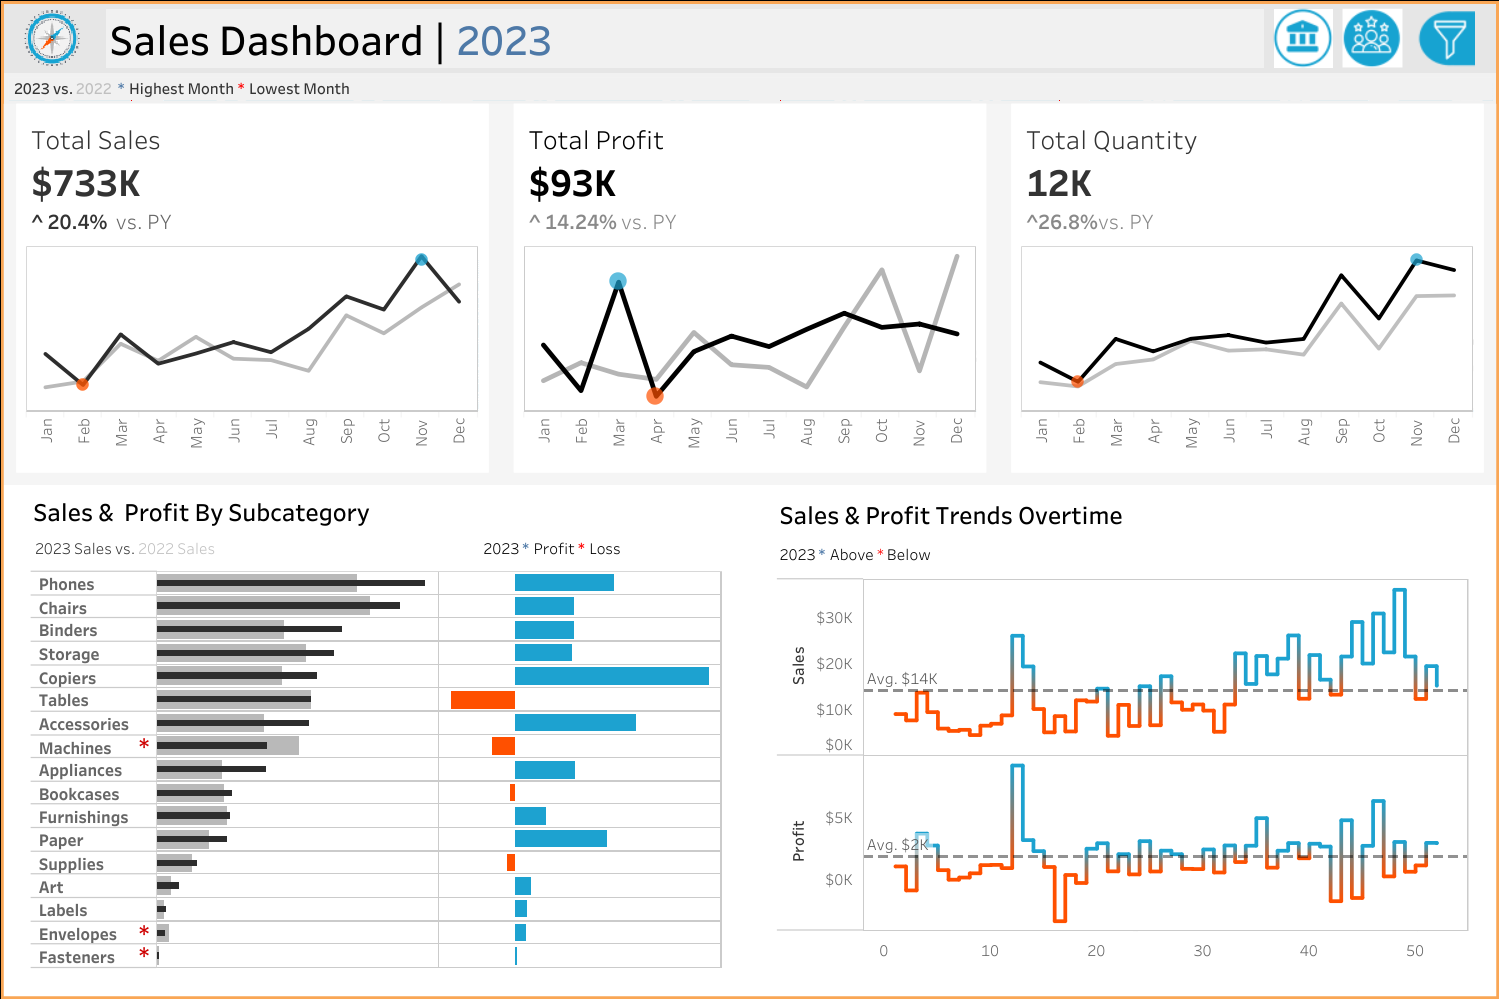

The page's visual inventory and layout, read from the dashboard file:
{"tool":"tableau","page":{"name":"Sales Dashboard","canvas":[1200,800],"ordinal":0},"visuals":[{"type":"image","param":"Image/Icon - Logo.png","box":[3,3,78,55]},{"type":"text","box":[81,3,934,55]},{"type":"dashboard-object","box":[1015,3,55,55]},{"type":"dashboard-object","box":[1070,3,56,55]},{"type":"dashboard-object","box":[1129,8,57,46]},{"type":"text","box":[987,10,197,40]},{"type":"parameter","param":"[Parameters].[Parameter 1]","box":[987,50,197,68]},{"type":"worksheet","title":"Legend KPI","mark":"Automatic","box":[3,58,1194,25]},{"type":"worksheet","title":"KPI Sales","mark":"Automatic","rows":["Calculation_2087699942925234181"],"cols":["Order Date"],"box":[3,83,398,305]},{"type":"worksheet","title":"KPI Profit","mark":"Automatic","rows":["Calculation_2087699943391412238"],"cols":["Order Date"],"box":[401,83,398,305]},{"type":"worksheet","title":"KPI Quantity","mark":"Line","rows":["Calculation_2087699943422980126"],"cols":["Order Date"],"box":[799,83,398,305]},{"type":"text","box":[987,118,197,33]},{"type":"filter","title":"KPI Sales","param":"[federated.0c2angh19n2s9v17hfpwo1cahdmh].[none:Category:nk]","box":[987,151,197,61]},{"type":"filter","title":"KPI Sales","param":"[federated.0c2angh19n2s9v17hfpwo1cahdmh].[none:Sub-Category:nk]","box":[987,212,197,61]},{"type":"blank","box":[987,273,197,31]},{"type":"text","box":[987,304,197,33]},{"type":"filter","title":"KPI Sales","param":"[federated.0c2angh19n2s9v17hfpwo1cahdmh].[none:Region:nk]","box":[987,337,197,61]},{"type":"text","box":[20,395,563,28.5]},{"type":"text","box":[617,395,563,32.3]},{"type":"filter","title":"KPI Sales","param":"[federated.0c2angh19n2s9v17hfpwo1cahdmh].[none:State:nk]","box":[987,398,197,61]},{"type":"worksheet","title":"Legend SUbCAT","mark":"Automatic","box":[20,423.5,360,28.5]},{"type":"text","box":[380,423.5,203,28.5]},{"type":"text","box":[617,427.3,563,30.4]},{"type":"worksheet","title":"Subcategory Comparison","mark":"Bar","rows":["Sub-Category","Calculation_2087699943675256863"],"cols":["CY Sales (copy)_2087699942312849410","Calculation_2087699942310686720","Calculation_2087699942968713227"],"box":[20,452,563,327.9]},{"type":"worksheet","title":"Weekly Trends","mark":"Automatic","rows":["Calculation_2087699942310686720","Calculation_2087699942968713227"],"cols":["Order Date"],"box":[617,457.7,563,322.3]},{"type":"filter","title":"KPI Sales","param":"[federated.0c2angh19n2s9v17hfpwo1cahdmh].[none:City:nk]","box":[987,459,197,61]}]}

Visuals, with their boxes in screenshot pixels (x1, y1, x2, y2), scaled from the page's 1200x800 canvas onto the 1499x999 screenshot:
image: Rect(4, 4, 101, 72)
text: Rect(101, 4, 1268, 72)
dashboard-object: Rect(1268, 4, 1337, 72)
dashboard-object: Rect(1337, 4, 1407, 72)
dashboard-object: Rect(1410, 10, 1482, 67)
text: Rect(1233, 12, 1479, 62)
parameter: Rect(1233, 62, 1479, 147)
"Legend KPI" worksheet: Rect(4, 72, 1495, 104)
"KPI Sales" worksheet: Rect(4, 104, 501, 485)
"KPI Profit" worksheet: Rect(501, 104, 998, 485)
"KPI Quantity" worksheet (Line marks): Rect(998, 104, 1495, 485)
text: Rect(1233, 147, 1479, 189)
"KPI Sales" filter: Rect(1233, 189, 1479, 265)
"KPI Sales" filter: Rect(1233, 265, 1479, 341)
blank: Rect(1233, 341, 1479, 380)
text: Rect(1233, 380, 1479, 421)
"KPI Sales" filter: Rect(1233, 421, 1479, 497)
text: Rect(25, 493, 728, 529)
text: Rect(771, 493, 1474, 534)
"KPI Sales" filter: Rect(1233, 497, 1479, 573)
"Legend SUbCAT" worksheet: Rect(25, 529, 475, 564)
text: Rect(475, 529, 728, 564)
text: Rect(771, 534, 1474, 572)
"Subcategory Comparison" worksheet (Bar marks): Rect(25, 564, 728, 974)
"Weekly Trends" worksheet: Rect(771, 572, 1474, 974)
"KPI Sales" filter: Rect(1233, 573, 1479, 649)
